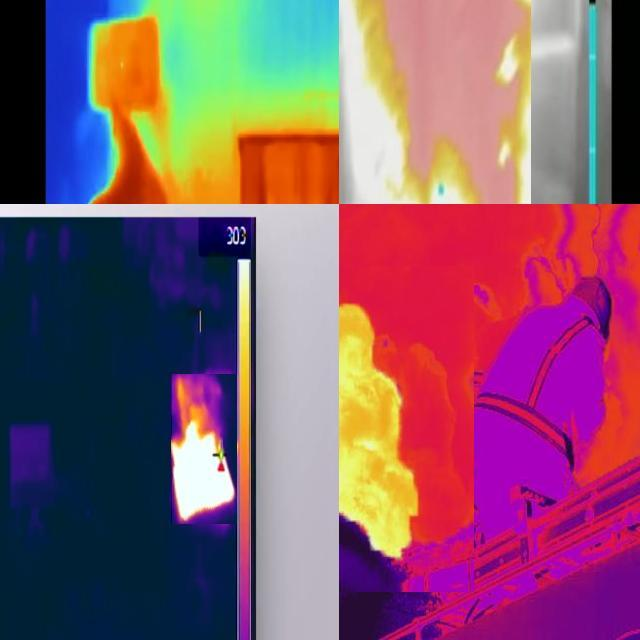fire: (340, 1, 474, 209), (340, 299, 424, 562), (73, 15, 182, 206), (172, 376, 238, 526), (496, 11, 530, 205)
